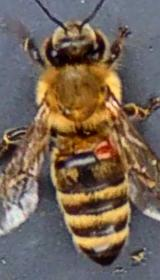varroa_mite: (80, 134, 126, 166)
